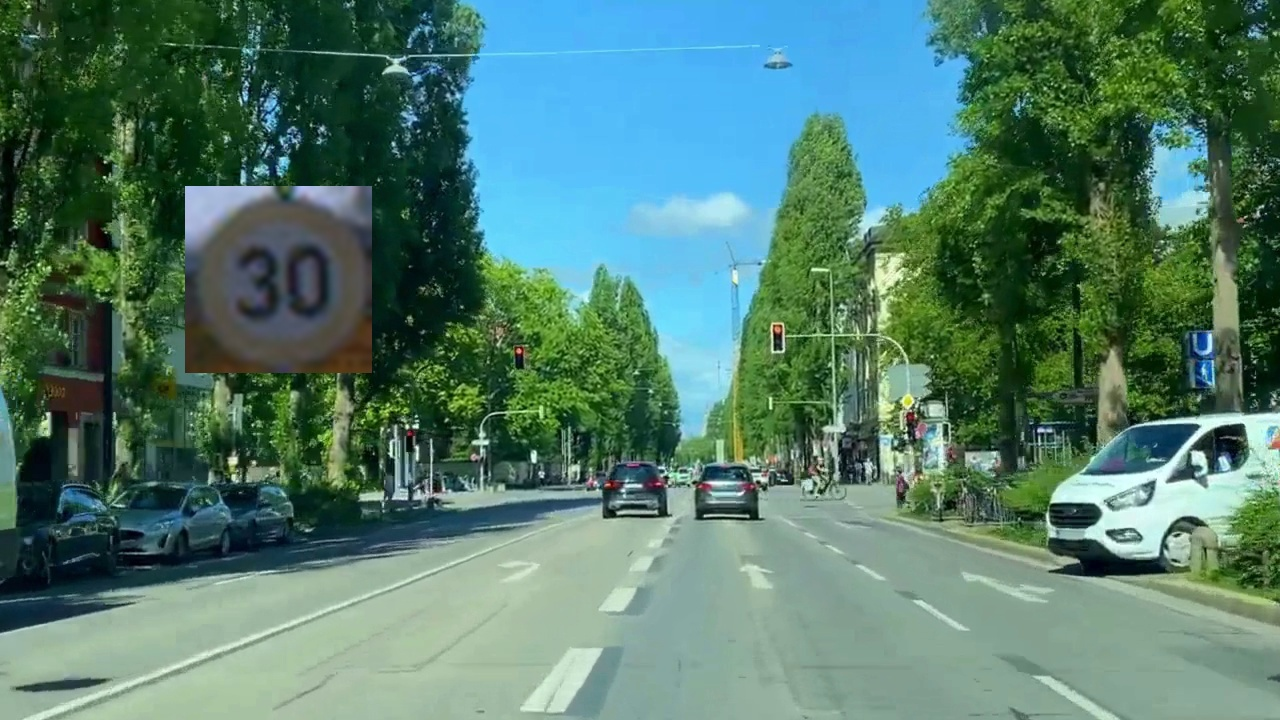Speed 30: (185, 186, 372, 373)
